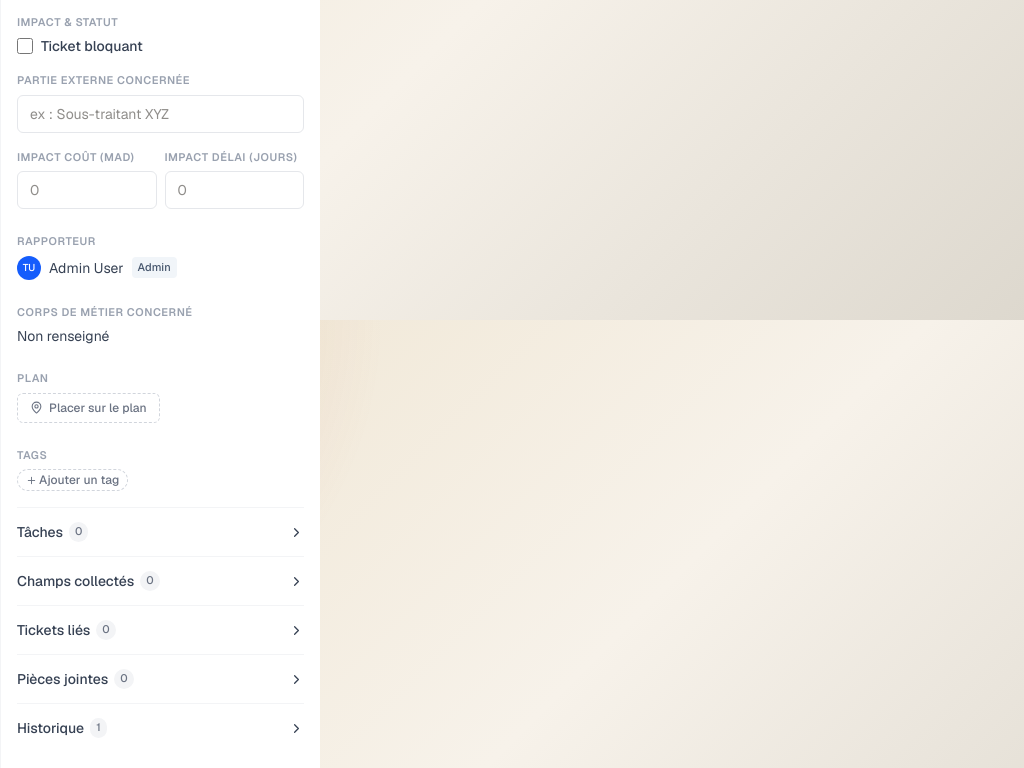
it: TicketDetailsPanel — history › renders status history entries
(page scrolled)
Click the button "Historique 1": {"x": 51, "y": 728} top-left (17, 718), bottom-right (304, 738)
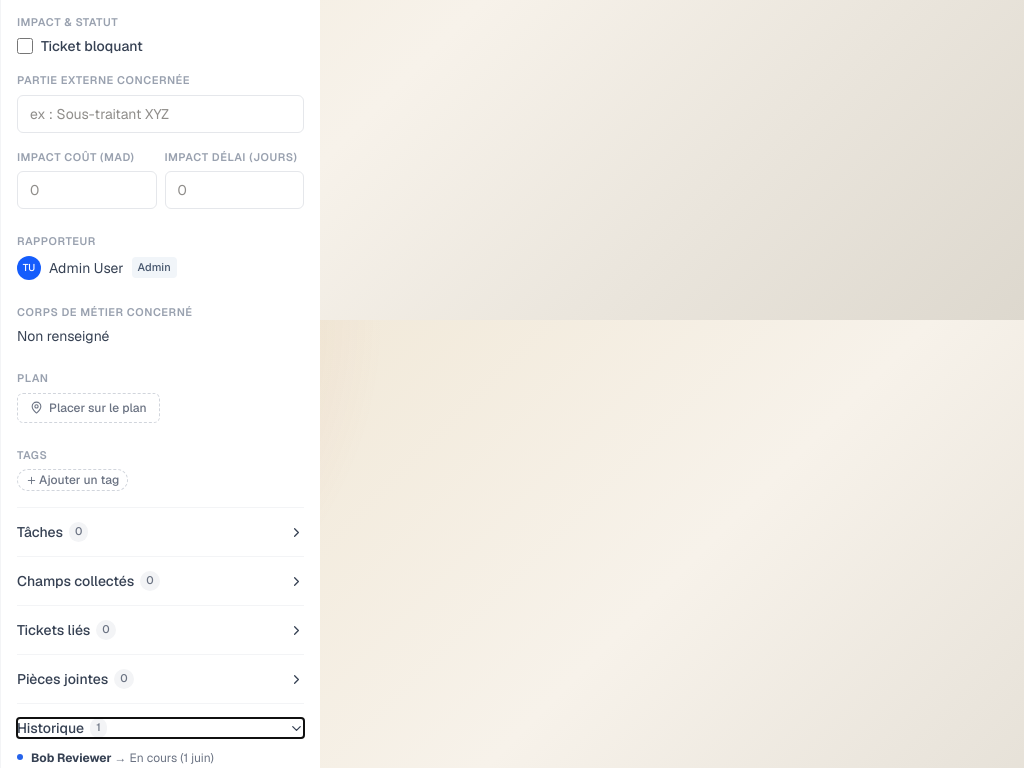
Expected: the text "En cours" is shown, top-left (130, 750), bottom-right (177, 766)
Expected: the text "Bob Reviewer" is shown, top-left (31, 750), bottom-right (112, 766)
